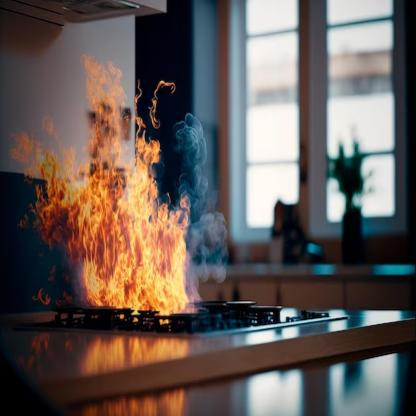fire: (12, 70, 190, 320)
smoke: (173, 110, 231, 300)
